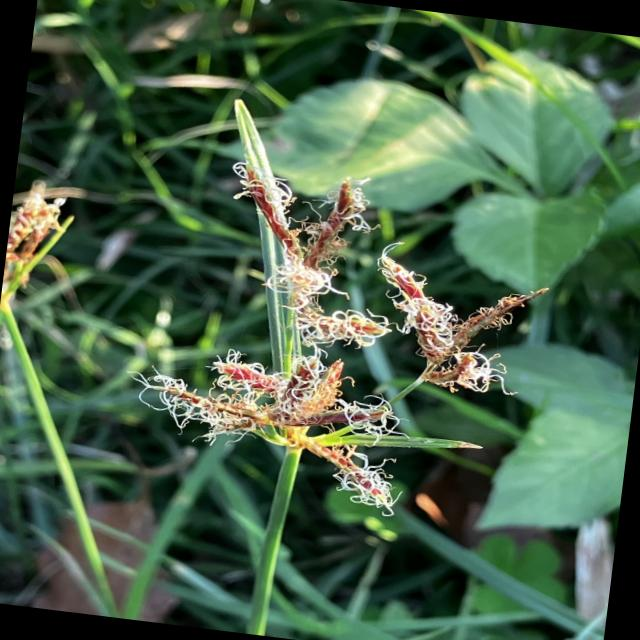cyperus: (116, 138, 580, 556), (0, 169, 92, 348)
